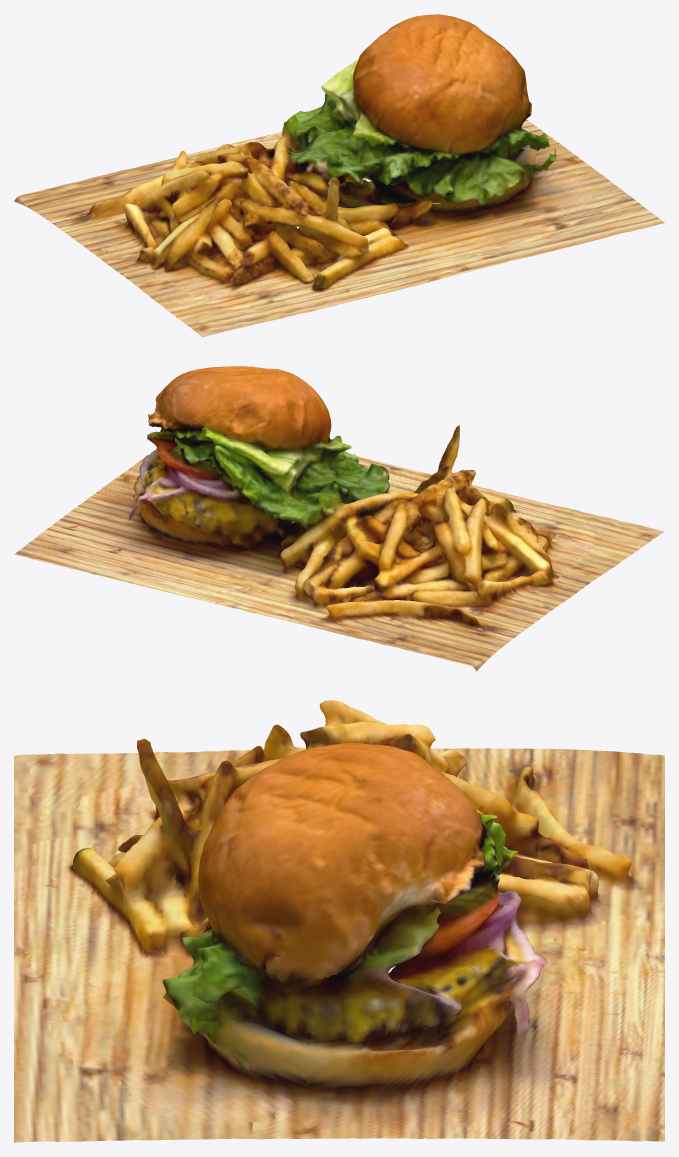
The model's file is burger.glb.
The picture shows the model from 3 angles, top to bottom: view 1: azimuth 30°, elevation 25°; view 2: azimuth 150°, elevation 25°; view 3: azimuth 270°, elevation 25°; orthographic projection. The views are drawn at different scales.
Visible parts, largest first — view 1: Object_2, Object_3; view 2: Object_2, Object_3; view 3: Object_2, Object_3.
Part boxes in pixels (x1,y1,x2,y2): Object_2: (14,16,664,337); Object_3: (92,14,542,272); Object_2: (14,366,664,671); Object_3: (16,374,549,628); Object_2: (14,701,664,1142); Object_3: (106,700,661,1141).
Size of the model in its own units: 0.3121 by 0.1015 by 0.2203.
Materials: 1 (1 with a texture image).
